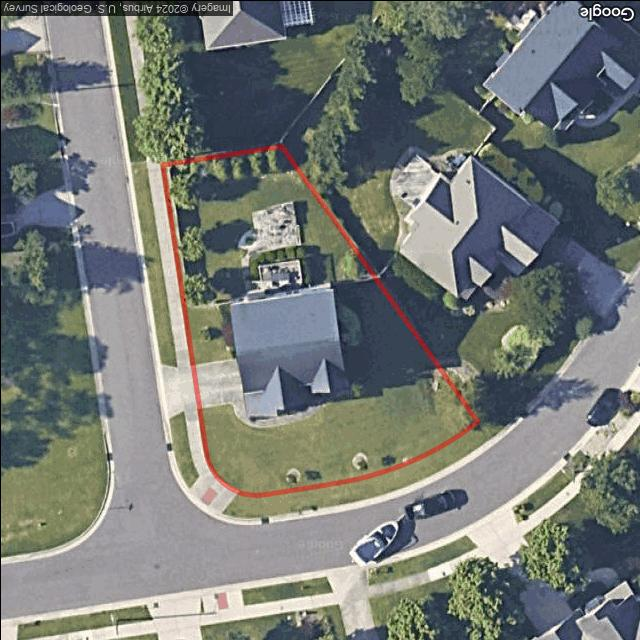Driveway: (191, 359, 243, 407)
Extra-Driveway: (158, 364, 197, 419)
Extra-Lawn: (221, 418, 490, 517), (131, 165, 175, 365), (169, 412, 199, 487)
Extra-Sidewalk: (146, 165, 238, 513)
House: (228, 288, 347, 417)
Lawn: (161, 145, 476, 495)
Other: (237, 200, 313, 295)
Sidewalk: (231, 400, 320, 426)
